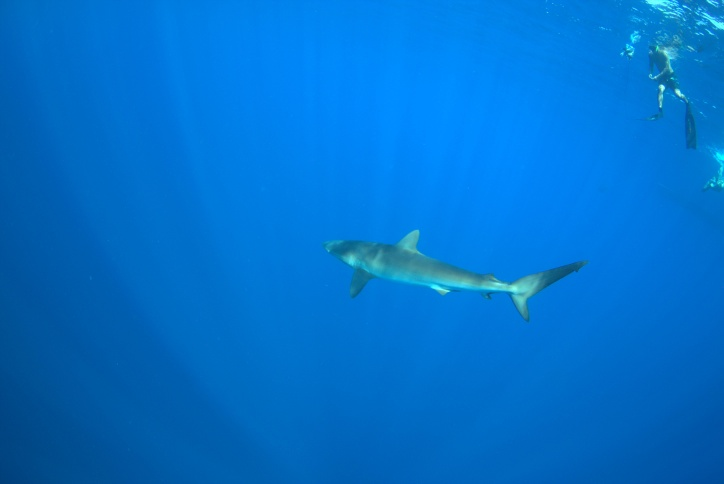Sedoso: (304, 214, 590, 329)
